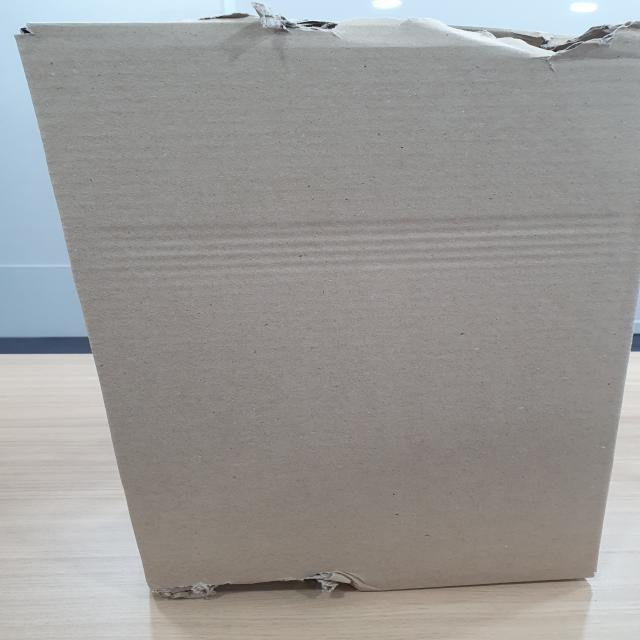hole: (249, 15, 625, 64), (162, 578, 355, 596)
